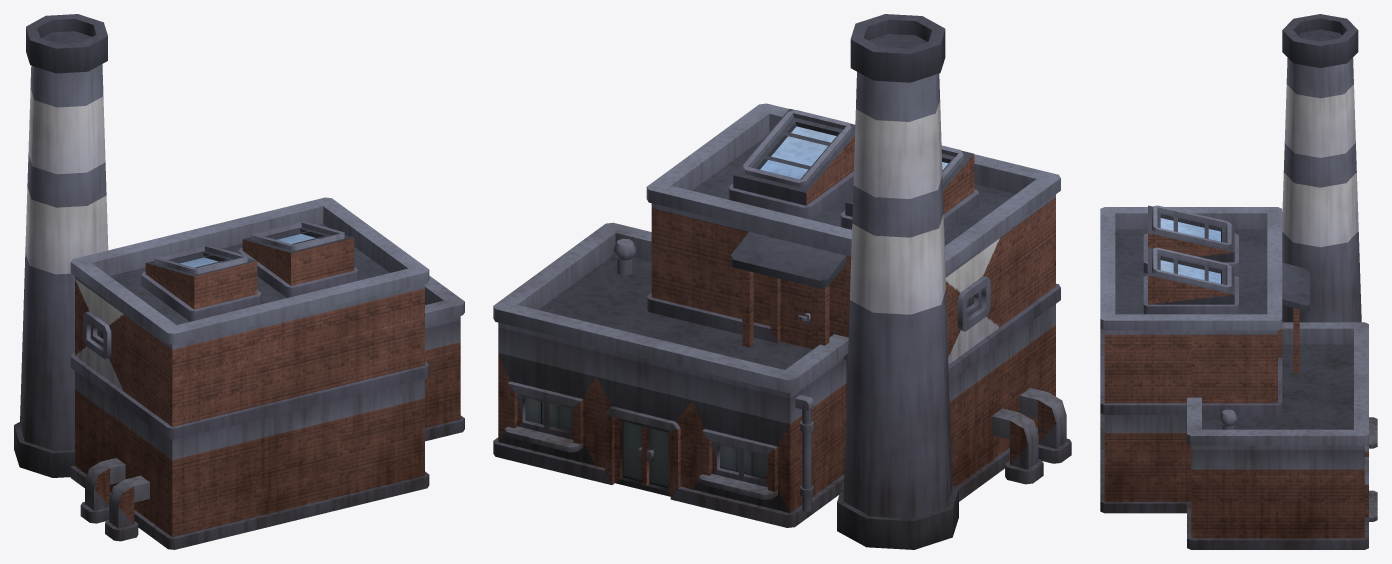
Rendered from building-f-brown.glb.
3 views of the same model, side by side, from view 1: azimuth 30°, elevation 25°; view 2: azimuth 150°, elevation 25°; view 3: azimuth 270°, elevation 25° (orthographic). The views are drawn at different scales.
Parts seen in each view (by area): view 1: building-f; view 2: building-f; view 3: building-f.
Part boxes in pixels (x1,y1,x2,y2): building-f: [14, 14, 464, 549]; building-f: [493, 14, 1071, 549]; building-f: [1100, 14, 1377, 549].
Bounding box in the file's own units: 1.79 × 1.92 × 1.28.
1 material, 1 textured.
